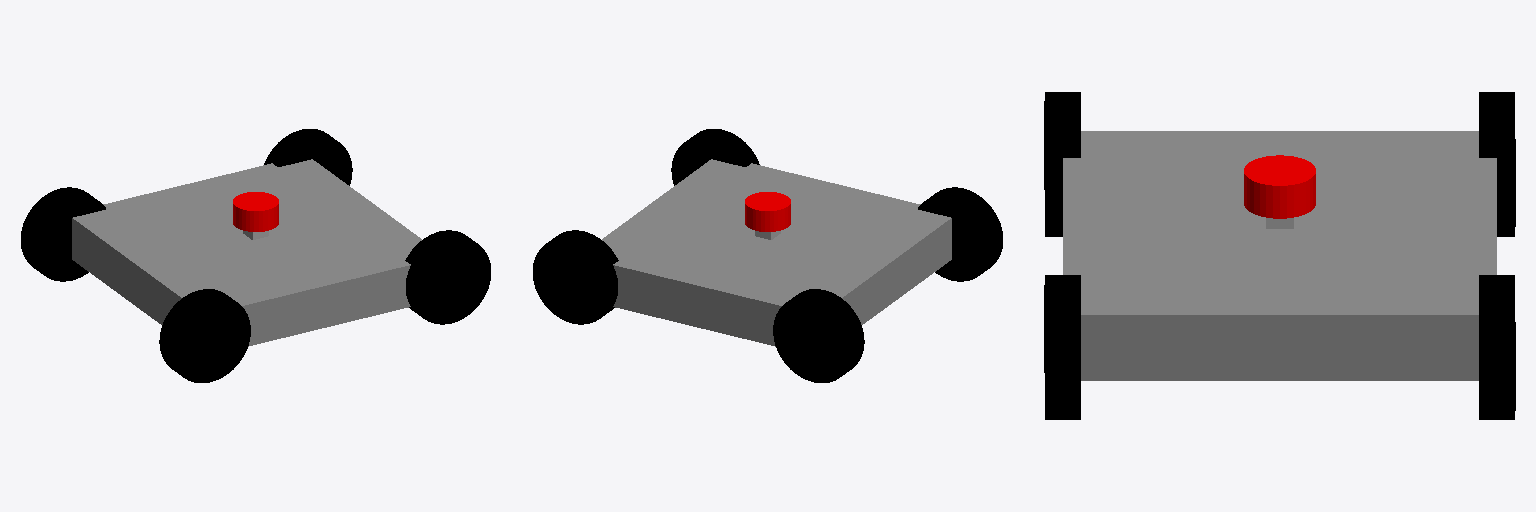
robot.urdf — mecanum_robot:
<?xml version="1.0"?>
<robot name="mecanum_robot">

  <!-- Link raiz: referência no chão -->
  <link name="base_footprint">
    <visual>
      <origin xyz="0 0 0" rpy="0 0 0"/>
      <geometry>
        <box size="0.00025 0.00025 0.00025"/>
      </geometry>
    </visual>
  </link>

  <!-- Junta fixa entre base_footprint e base_link -->
  <joint name="base_link_joint" type="fixed">
    <origin xyz="0 0 0.0125" rpy="0 0 0"/>
    <parent link="base_footprint"/>
    <child link="base_link"/>
  </joint>

  <!-- Base sólida do robô -->
  <link name="base_link">
    <inertial>
      <origin xyz="0 0 0.0125"/>
      <mass value="50.0"/>
      <inertia ixx="10.0" ixy="0" ixz="0" iyy="10.0" iyz="0" izz="10.0"/>
    </inertial>
    <visual>
      <origin xyz="0 0 0.0125"/>
      <geometry>
        <box size="0.15 0.15 0.025"/>
      </geometry>
      <material name="grey">
        <color rgba="0.6 0.6 0.6 1"/>
      </material>
    </visual>
    <collision>
      <origin xyz="0 0 0.0125"/>
      <geometry>
        <box size="0.15 0.15 0.025"/>
      </geometry>
    </collision>
  </link>
  
  <!-- Definição das rodas com rotação ajustada (90° adicionais) -->
  <!-- Roda dianteira esquerda -->
  <link name="wheel_front_left">
    <inertial>
      <origin xyz="0 0 0"/>
      <mass value="2.0"/>
      <inertia ixx="0.01" ixy="0" ixz="0" iyy="0.01" iyz="0" izz="0.01"/>
    </inertial>
    <visual>
      <!-- Rotaciona: primeiro 90° em torno de Y e depois 90° em torno de Z -->
      <origin xyz="0 0 0" rpy="0 1.57 1.57"/>
      <geometry>
        <cylinder length="0.0125" radius="0.025"/>
      </geometry>
      <material name="black">
        <color rgba="0 0 0 1"/>
      </material>
    </visual>
    <collision>
      <origin xyz="0 0 0" rpy="0 1.57 1.57"/>
      <geometry>
        <cylinder length="0.0125" radius="0.025"/>
      </geometry>
    </collision>
  </link>

  <!-- Roda dianteira direita -->
  <link name="wheel_front_right">
    <inertial>
      <origin xyz="0 0 0"/>
      <mass value="2.0"/>
      <inertia ixx="0.01" ixy="0" ixz="0" iyy="0.01" iyz="0" izz="0.01"/>
    </inertial>
    <visual>
      <origin xyz="0 0 0" rpy="0 1.57 1.57"/>
      <geometry>
        <cylinder length="0.0125" radius="0.025"/>
      </geometry>
      <material name="black">
        <color rgba="0 0 0 1"/>
      </material>
    </visual>
    <collision>
      <origin xyz="0 0 0" rpy="0 1.57 1.57"/>
      <geometry>
        <cylinder length="0.0125" radius="0.025"/>
      </geometry>
    </collision>
  </link>

  <!-- Roda traseira esquerda -->
  <link name="wheel_rear_left">
    <inertial>
      <origin xyz="0 0 0"/>
      <mass value="2.0"/>
      <inertia ixx="0.01" ixy="0" ixz="0" iyy="0.01" iyz="0" izz="0.01"/>
    </inertial>
    <visual>
      <origin xyz="0 0 0" rpy="0 1.57 1.57"/>
      <geometry>
        <cylinder length="0.0125" radius="0.025"/>
      </geometry>
      <material name="black">
        <color rgba="0 0 0 1"/>
      </material>
    </visual>
    <collision>
      <origin xyz="0 0 0" rpy="0 1.57 1.57"/>
      <geometry>
        <cylinder length="0.0125" radius="0.025"/>
      </geometry>
    </collision>
  </link>

  <!-- Roda traseira direita -->
  <link name="wheel_rear_right">
    <inertial>
      <origin xyz="0 0 0"/>
      <mass value="2.0"/>
      <inertia ixx="0.01" ixy="0" ixz="0" iyy="0.01" iyz="0" izz="0.01"/>
    </inertial>
    <visual>
      <origin xyz="0 0 0" rpy="0 1.57 1.57"/>
      <geometry>
        <cylinder length="0.0125" radius="0.025"/>
      </geometry>
      <material name="black">
        <color rgba="0 0 0 1"/>
      </material>
    </visual>
    <collision>
      <origin xyz="0 0 0" rpy="0 1.57 1.57"/>
      <geometry>
        <cylinder length="0.0125" radius="0.025"/>
      </geometry>
    </collision>
  </link>

  <!-- Juntas das rodas com eixo de rotação ajustado -->
  <joint name="joint_wheel_front_left" type="revolute">
    <origin xyz="0.075 0.075 0.0125" rpy="0 0 0"/>
    <parent link="base_link"/>
    <child link="wheel_front_left"/>
    <axis xyz="0 1 0"/>
    <limit effort="100" velocity="10"/>
  </joint>

  <joint name="joint_wheel_front_right" type="revolute">
    <origin xyz="0.075 -0.075 0.0125" rpy="0 0 0"/>
    <parent link="base_link"/>
    <child link="wheel_front_right"/>
    <axis xyz="0 1 0"/>
    <limit effort="100" velocity="10"/>
  </joint>

  <joint name="joint_wheel_rear_left" type="revolute">
    <origin xyz="-0.075 0.075 0.0125" rpy="0 0 0"/>
    <parent link="base_link"/>
    <child link="wheel_rear_left"/>
    <axis xyz="0 1 0"/>
    <limit effort="100" velocity="10"/>
  </joint>

  <joint name="joint_wheel_rear_right" type="revolute">
    <origin xyz="-0.075 -0.075 0.0125" rpy="0 0 0"/>
    <parent link="base_link"/>
    <child link="wheel_rear_right"/>
    <axis xyz="0 1 0"/>
    <limit effort="100" velocity="10"/>
  </joint>

  <!-- LIDAR colado na base -->
  <link name="lidar">
    <material>Gazebo/FlatBlack</material>
    <inertial>
      <origin xyz="0 0 0"/>
      <mass value="1.0"/>
      <inertia ixx="0.001" ixy="0" ixz="0" iyy="0.001" iyz="0" izz="0.001"/>
    </inertial>
    <visual>
      <origin xyz="0 0 0" rpy="0 0 0"/>
      <geometry>
        <cylinder radius="0.0125" length="0.0125"/>
      </geometry>
      <material name="red">
        <color rgba="1 0 0 1"/>
      </material>
    </visual>
    <collision>
      <origin xyz="0 0 0" rpy="0 0 0"/>
      <geometry>
        <cylinder radius="0.0125" length="0.0125"/>
      </geometry>
    </collision>
  </link>

  <joint name="lidar_joint" type="fixed">
    <origin xyz="0 0 0.03875" rpy="0 0 0"/>
    <parent link="base_link"/>
    <child link="lidar"/>
  </joint>

  <link name="imu_link">
    <inertial><origin xyz="0 0 0"/><mass value="0.001"/>
      <inertia ixx="1e-6" iyy="1e-6" izz="1e-6" ixy="0" ixz="0" iyz="0"/></inertial>
    <visual><geometry><box size="0.01 0.01 0.01"/></geometry></visual>
  </link>
  <joint name="imu_joint" type="fixed">
    <origin xyz="0 0 0.03" rpy="0 0 0"/>
    <parent link="base_link"/><child link="imu_link"/>
  </joint>
  
    <gazebo reference="imu_link">
  <sensor type="imu" name="imu_sensor">
    <pose>0 0 0 0 0 0</pose>
    <update_rate>100</update_rate>

    <imu>
      <angular_velocity>
        <noise>
          <type>gaussian</type>
          <mean>0.0</mean>
          <stddev>0.00005</stddev>
        </noise>
        <bias>
          <type>gaussian</type>
          <mean>0.0</mean>
          <stddev>0.0001</stddev>
        </bias>
      </angular_velocity>
      <linear_acceleration>
        <noise>
          <type>gaussian</type>
          <mean>0.0</mean>
          <stddev>0.0001</stddev>
        </noise>
        <bias>
          <type>gaussian</type>
          <mean>0.0</mean>
          <stddev>0.001</stddev>
        </bias>
      </linear_acceleration>
    </imu>

    <plugin name="imu_plugin"
            filename="libgazebo_ros_imu_sensor.so">
      <topicName>imu/data</topicName>
      <frameName>imu_link</frameName>
      <!-- você pode também ajustar gaussianNoise aqui -->
      <gaussianNoise>0.0001</gaussianNoise>
    </plugin>
  </sensor>
</gazebo>


  <!-- Plugin do Gazebo para controle planar -->
  <!-- <gazebo>
    <plugin name="object_controller" filename="libgazebo_ros_planar_move.so">
      <commandTopic>cmd_vel</commandTopic>
      <odometryTopic>odom</odometryTopic>
      <odometryFrame>odom</odometryFrame>
      <odometryRate>20.0</odometryRate>
      <robotBaseFrame>base_footprint</robotBaseFrame>
    </plugin>
  </gazebo> -->

  <!-- Configuração do sensor LIDAR para o Gazebo -->
  <gazebo reference="lidar">
    <material>Gazebo/FlatBlack</material>
    <sensor type="ray" name="lds_lfcd_sensor">
      <pose>0 0 0 0 0 0</pose>
      <!-- Altere para 'true' ou 'false' conforme desejar visualizar o sensor -->
      <visualize>true</visualize>
      <update_rate>5</update_rate>
      <ray>
        <scan>
          <horizontal>
            <samples>360</samples>
            <resolution>1</resolution>
            <min_angle>0.0</min_angle>
            <max_angle>6.28319</max_angle>
          </horizontal>
        </scan>
        <range>
          <min>0.120</min>
          <max>3.5</max>
          <resolution>0.015</resolution>
        </range>
        <noise>
          <type>gaussian</type>
          <mean>0.0</mean>
          <stddev>0.01</stddev>
        </noise>
      </ray>
      <plugin name="gazebo_ros_lds_lfcd_controller" filename="libgazebo_ros_laser.so">
        <topicName>scan</topicName>
        <!-- Use o nome do frame associado ao seu sensor, podendo ser 'lidar' -->
        <frameName>lidar</frameName>
      </plugin>
    </sensor>
  </gazebo>

</robot>

--- What the picture shows (computed from the rendered views, not written in the file) ---
Views: 3 orthographic renders of the robot side by side, from view 1: azimuth 30°, elevation 25°; view 2: azimuth 150°, elevation 25°; view 3: azimuth 270°, elevation 25°.
Model mecanum_robot with 8 links and 7 joints (4 revolute, 3 fixed), rooted at base_footprint, posed all joints at 0.
Visible links, largest first — view 1: base_link, wheel_rear_right, wheel_front_right, wheel_rear_left, wheel_front_left, lidar; view 2: base_link, wheel_rear_left, wheel_front_left, wheel_rear_right, wheel_front_right, lidar; view 3: base_link, wheel_front_left, wheel_front_right, lidar, wheel_rear_right, wheel_rear_left.
Boxes of the visible links, x1,y1,x2,y2 form: base_link: [72, 159, 421, 346]; wheel_rear_right: [159, 289, 250, 382]; wheel_front_right: [405, 230, 490, 324]; wheel_rear_left: [21, 187, 105, 281]; wheel_front_left: [264, 129, 352, 185]; lidar: [233, 192, 278, 231]; base_link: [602, 159, 951, 346]; wheel_rear_left: [773, 289, 864, 382]; wheel_front_left: [533, 230, 618, 324]; wheel_rear_right: [918, 187, 1002, 281]; wheel_front_right: [671, 129, 759, 185]; lidar: [745, 192, 790, 231]; base_link: [1063, 131, 1496, 380]; wheel_front_left: [1479, 275, 1515, 419]; wheel_front_right: [1044, 275, 1080, 419]; lidar: [1244, 155, 1315, 218]; wheel_rear_right: [1044, 92, 1080, 236]; wheel_rear_left: [1479, 92, 1515, 236].
Size in the robot's own frame: 0.2 by 0.1626 by 0.0576 metres.
Geometry: primitives only (box / cylinder / sphere), no mesh files.